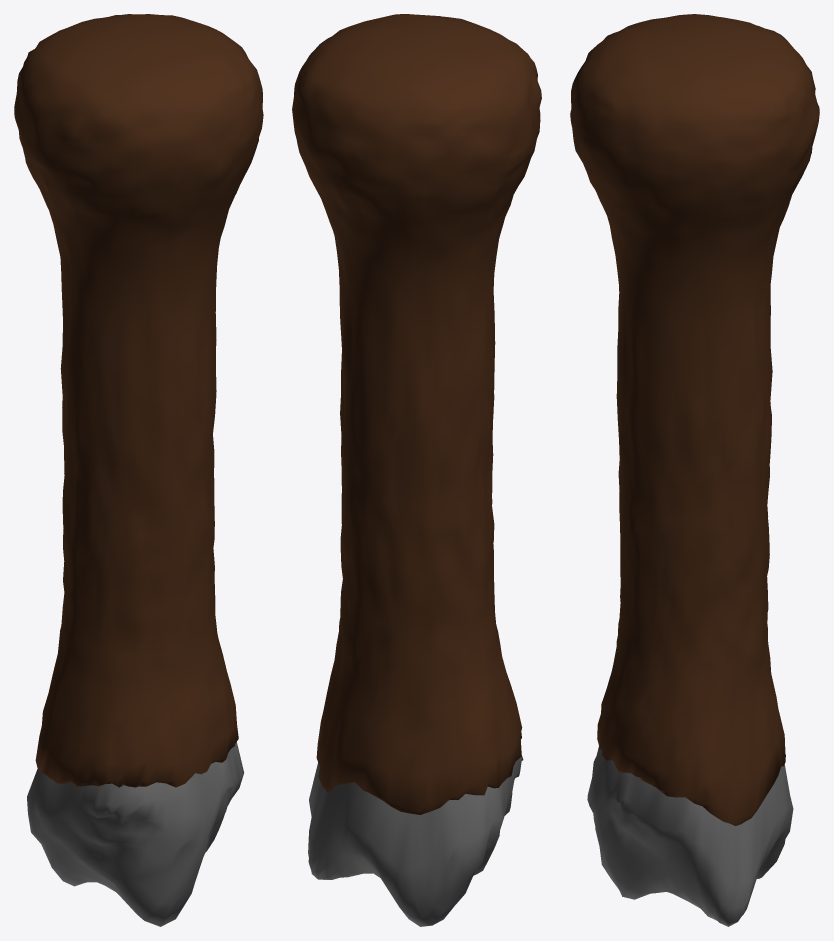
Rendered from ObeliskMudAreaCollider.fbx.
3 views of the same model, side by side, from view 1: azimuth 30°, elevation 25°; view 2: azimuth 150°, elevation 25°; view 3: azimuth 270°, elevation 25° (orthographic).
Parts seen in each view (by area): view 1: ObeliskMudAreaDirt_Model, ObeliskMudAreaStone_Model; view 2: ObeliskMudAreaDirt_Model, ObeliskMudAreaStone_Model; view 3: ObeliskMudAreaDirt_Model, ObeliskMudAreaStone_Model.
Part boxes in pixels (x1,y1,x2,y2): ObeliskMudAreaDirt_Model: (14,14,263,787); ObeliskMudAreaStone_Model: (27,742,244,926); ObeliskMudAreaDirt_Model: (292,14,541,814); ObeliskMudAreaStone_Model: (308,755,523,926); ObeliskMudAreaDirt_Model: (570,14,819,825); ObeliskMudAreaStone_Model: (587,747,793,926).
Size of what is drawn, in the model's own units: 2942 by 11194 by 2945.
